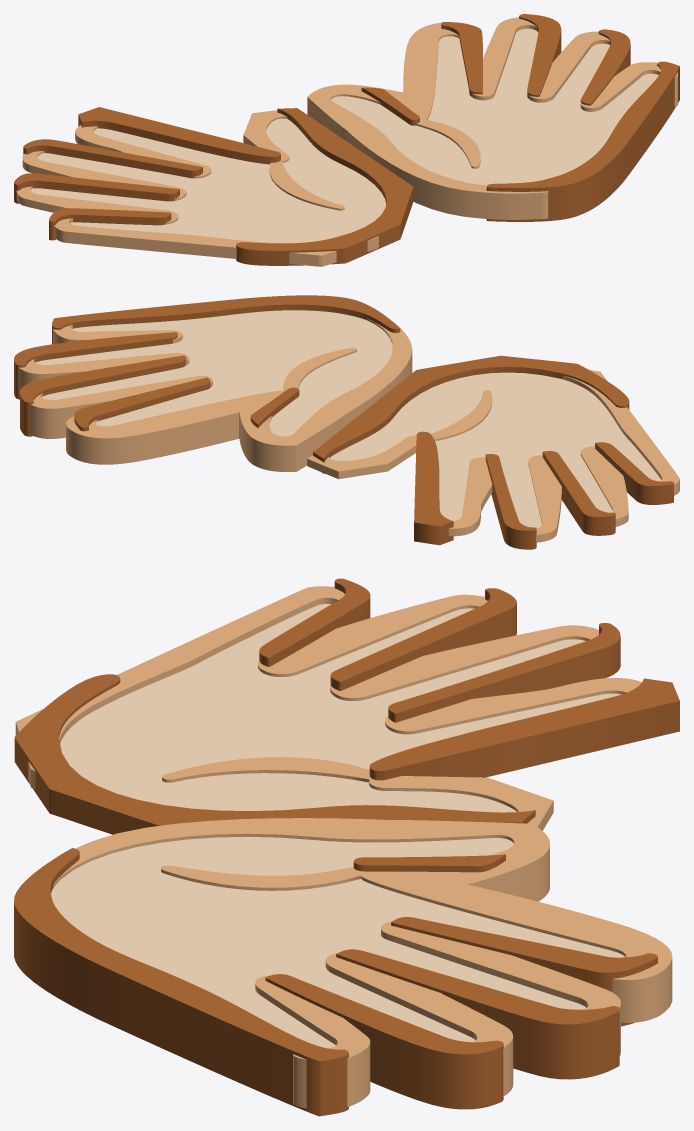
File: emoji_u1f450_1f3fb.glb
3 renders of one model, top to bottom at view 1: azimuth 30°, elevation 25°; view 2: azimuth 150°, elevation 25°; view 3: azimuth 270°, elevation 25°, orthographic. The views are drawn at different scales.
Parts seen in each view (by area): view 1: emoji_u1f450_1f3fb; view 2: emoji_u1f450_1f3fb; view 3: emoji_u1f450_1f3fb.
Part boxes in pixels (x1,y1,x2,y2): emoji_u1f450_1f3fb: [14, 14, 679, 266]; emoji_u1f450_1f3fb: [14, 295, 679, 549]; emoji_u1f450_1f3fb: [14, 578, 679, 1116].
Size of the model in its own units: 0.0347 by 0.0018 by 0.0197.
